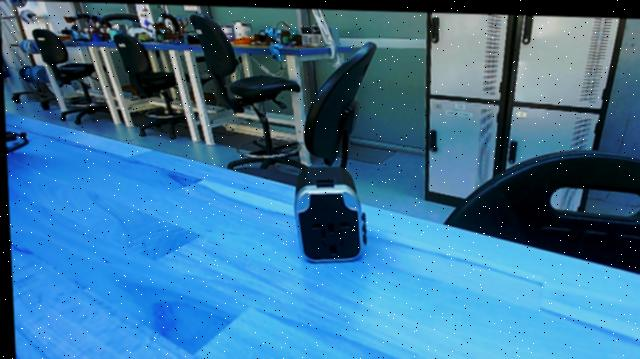adapter: (290, 162, 370, 267)
